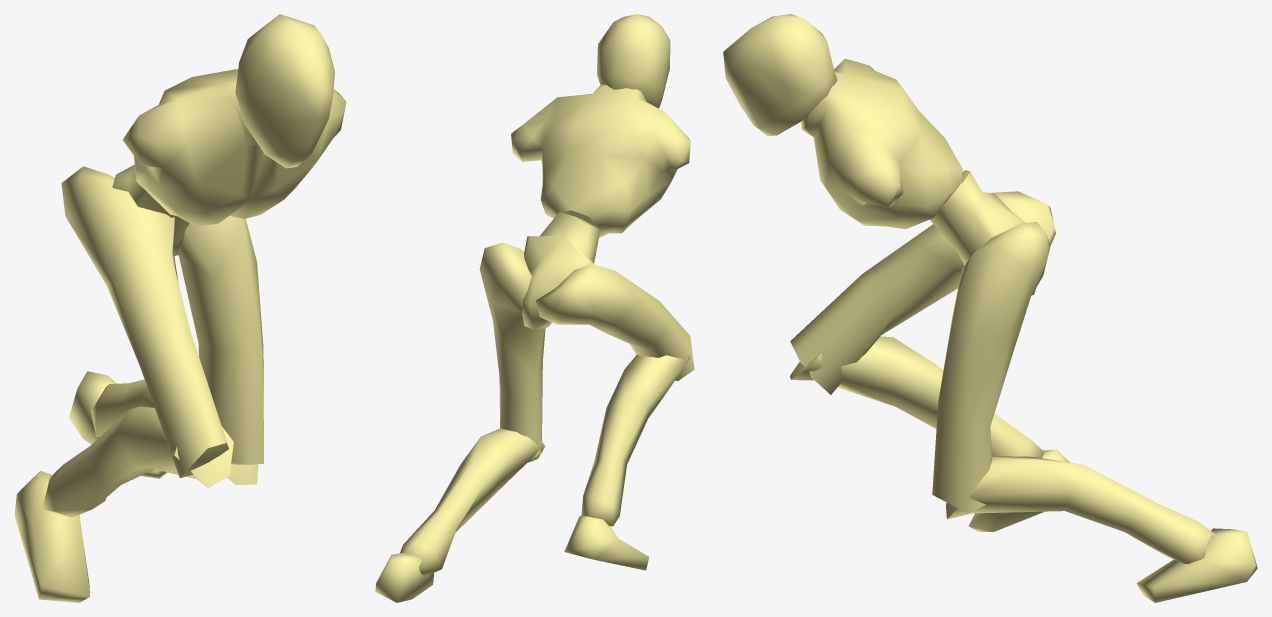
Rendered from filth7.obj.
3 renders of one model, left to right at view 1: azimuth 30°, elevation 25°; view 2: azimuth 150°, elevation 25°; view 3: azimuth 270°, elevation 25°, orthographic. The views are drawn at different scales.
Parts seen in each view (by area): view 1: Melee_Husk; view 2: Melee_Husk; view 3: Melee_Husk.
Part boxes in pixels (left/top/right/bottom): Melee_Husk: left=14, top=14, right=346, bottom=602; Melee_Husk: left=375, top=14, right=694, bottom=602; Melee_Husk: left=723, top=14, right=1257, bottom=602.
Bounding box in the file's own units: 22.17 × 55.71 × 48.37.
